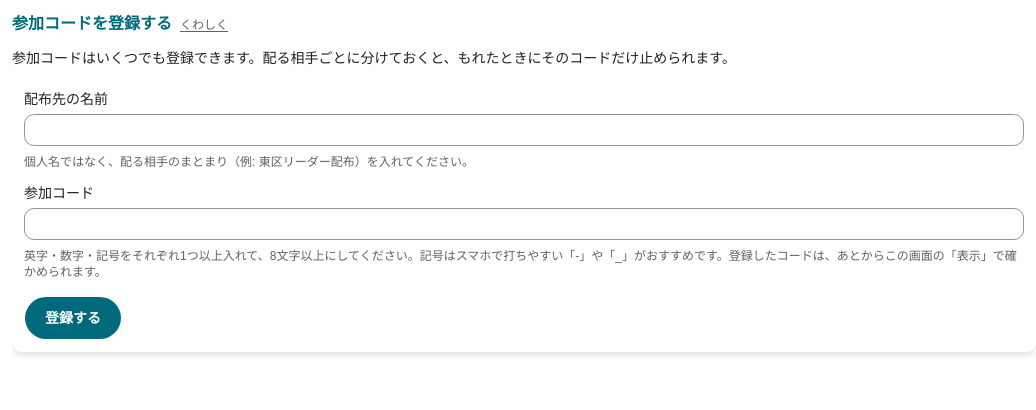
Scenario: 記号のないコードは、ダイアログの前に文言を出す
Type "東区リーダー配布" into the field labelled "配布先の名前" at (524, 130), box [24,114,1024,146]
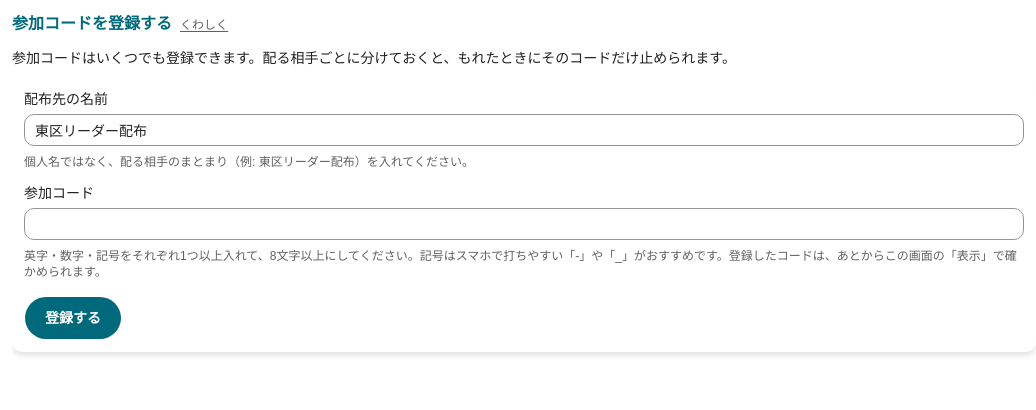
Type "abcd1234" into the field labelled "参加コード" at (524, 224), box [24,208,1024,240]
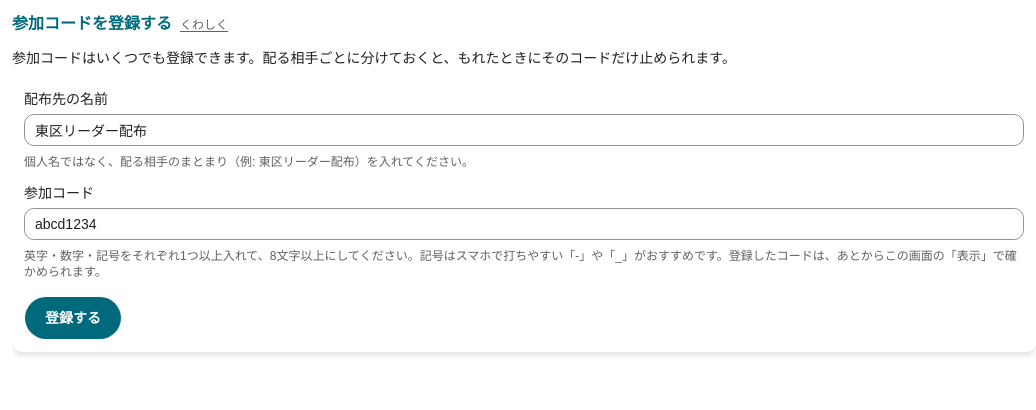
Click the button "登録する" at (73, 318), box [24,296,122,340]
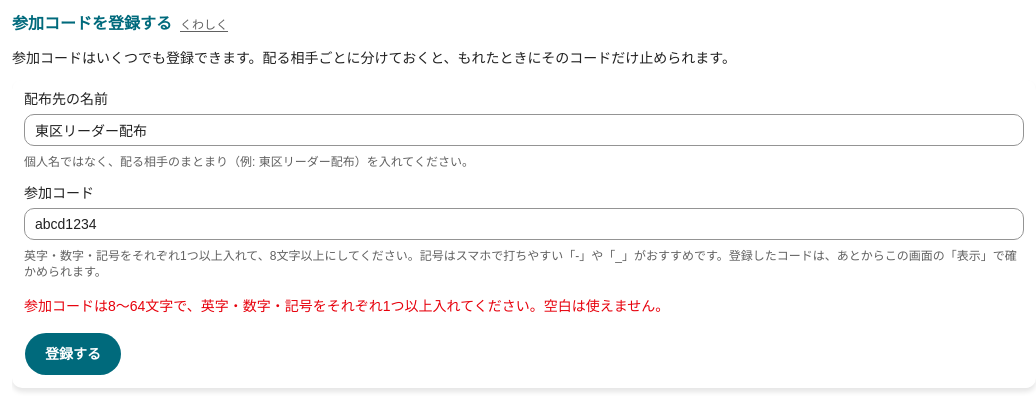
Expected: the message shows "英字・数字・記号をそれぞれ1つ以上", [24,298,669,314]
